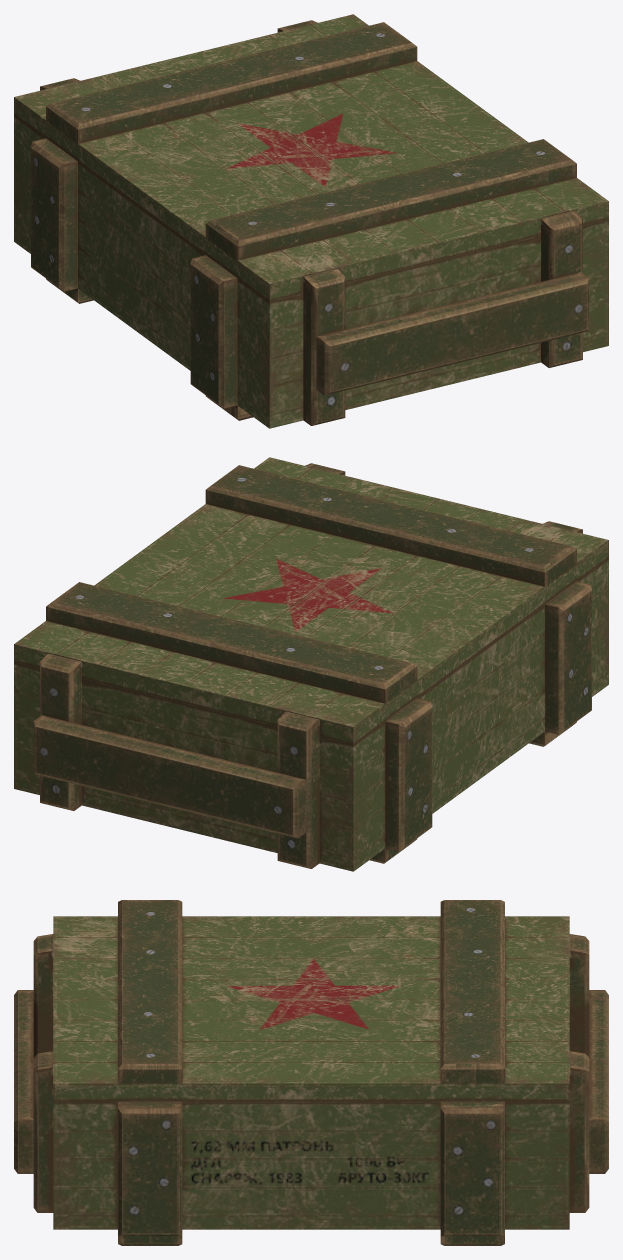
The model's file is soviet-style_military_ammo_boxcrate.glb.
The picture shows the model from 3 angles, top to bottom: view 1: azimuth 30°, elevation 25°; view 2: azimuth 150°, elevation 25°; view 3: azimuth 270°, elevation 25°; orthographic projection.
Parts seen in each view (by area): view 1: LidLp, CrateLp; view 2: LidLp, CrateLp; view 3: LidLp, CrateLp.
Boxes of the visible parts, left/top/right/bottom form: LidLp: left=14, top=14, right=608, bottom=301; CrateLp: left=14, top=20, right=608, bottom=428; LidLp: left=14, top=457, right=608, bottom=744; CrateLp: left=14, top=463, right=608, bottom=871; LidLp: left=53, top=900, right=569, bottom=1101; CrateLp: left=14, top=934, right=608, bottom=1245.
Bounding box in the file's own units: 308 × 142 × 421.
1 material, 1 textured.
